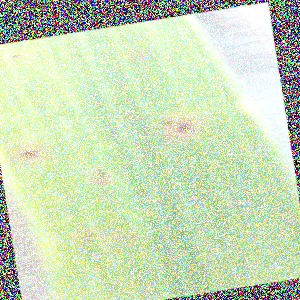Bacterial_Leaf_Blight: (12, 143, 47, 165), (85, 164, 115, 189), (168, 118, 199, 138), (110, 230, 137, 246), (154, 113, 178, 129), (77, 229, 100, 242), (5, 50, 26, 62)
